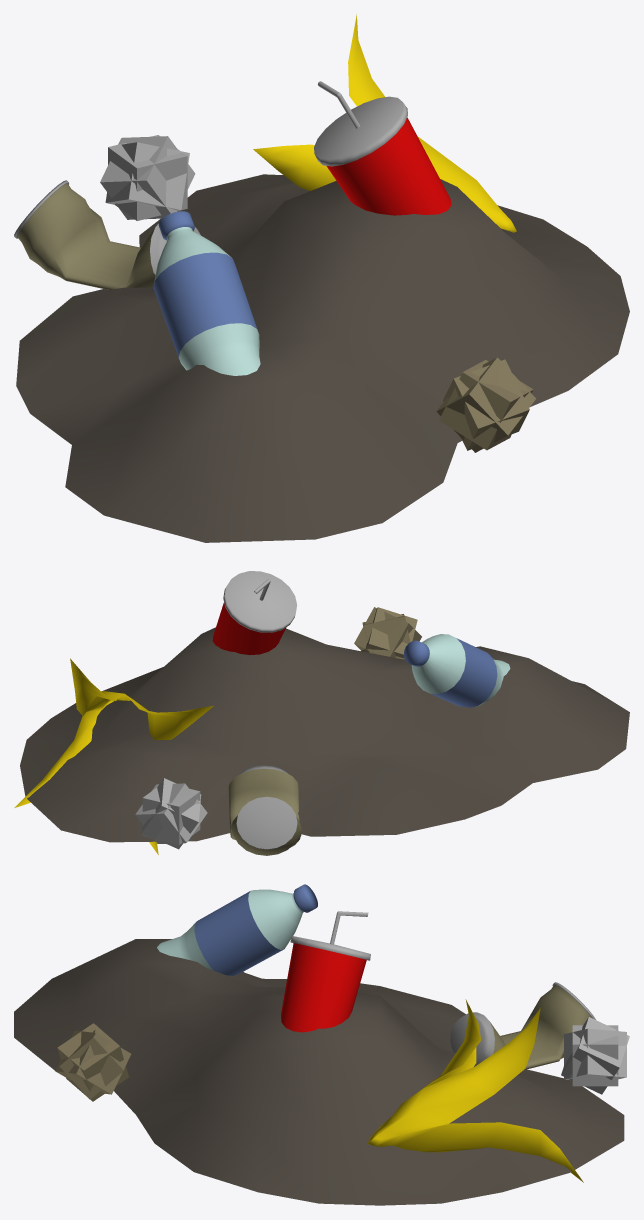
Rendered from trashpile.fbx.
3 renders of one model, top to bottom at view 1: azimuth 30°, elevation 25°; view 2: azimuth 150°, elevation 25°; view 3: azimuth 270°, elevation 25°, orthographic. The views are drawn at different scales.
Parts seen in each view (by area): view 1: dirt_pile, crushedcan_body, sodacup_cup, bottle_label, white_paper, brown_bag, banana_peel, bottle_neck, sodacup_lid; view 2: dirt_pile, banana_peel, sodacup_lid, white_paper, crushedcan_body, bottle_neck, crushedcan_top, brown_bag, bottle_label, sodacup_cup, bottle_cap; view 3: dirt_pile, banana_peel, sodacup_cup, bottle_label, white_paper, brown_bag, bottle_neck, crushedcan_body, crushedcan_bottom, sodacup_lid, bottle_cap.
Part boxes in pixels (left/top/right/bottom): dirt_pile: left=16, top=174, right=629, bottom=542; crushedcan_body: left=17, top=183, right=155, bottom=289; sodacup_cup: left=326, top=117, right=451, bottom=215; bottle_label: left=153, top=252, right=258, bottom=357; white_paper: left=100, top=135, right=195, bottom=220; brown_bag: left=436, top=357, right=536, bottom=452; banana_peel: left=253, top=14, right=516, bottom=232; bottle_neck: left=154, top=227, right=260, bottom=375; sodacup_lid: left=314, top=96, right=407, bottom=166; dirt_pile: left=20, top=627, right=629, bottom=842; banana_peel: left=14, top=658, right=213, bottom=854; sodacup_lid: left=223, top=571, right=296, bottom=632; white_paper: left=135, top=778, right=207, bottom=849; crushedcan_body: left=228, top=768, right=301, bottom=855; bottle_neck: left=411, top=634, right=510, bottom=706; crushedcan_top: left=236, top=796, right=297, bottom=849; brown_bag: left=354, top=607, right=421, bottom=659; bottle_label: left=431, top=638, right=497, bottom=707; sodacup_cup: left=212, top=603, right=286, bottom=654; bottle_cap: left=404, top=640, right=429, bottom=666; dirt_pile: left=14, top=939, right=624, bottom=1205; banana_peel: left=367, top=999, right=583, bottom=1182; sodacup_cup: left=281, top=943, right=366, bottom=1032; bottle_label: left=194, top=891, right=283, bottom=975; white_paper: left=561, top=1017, right=629, bottom=1094; brown_bag: left=55, top=1023, right=130, bottom=1101; bottle_neck: left=157, top=889, right=303, bottom=970; crushedcan_body: left=490, top=984, right=591, bottom=1069; crushedcan_bottom: left=450, top=1012, right=494, bottom=1062; sodacup_lid: left=290, top=936, right=370, bottom=960; bottle_cap: left=293, top=884, right=317, bottom=912.
Size of the model in its own units: 96.14 by 45.03 by 102.
